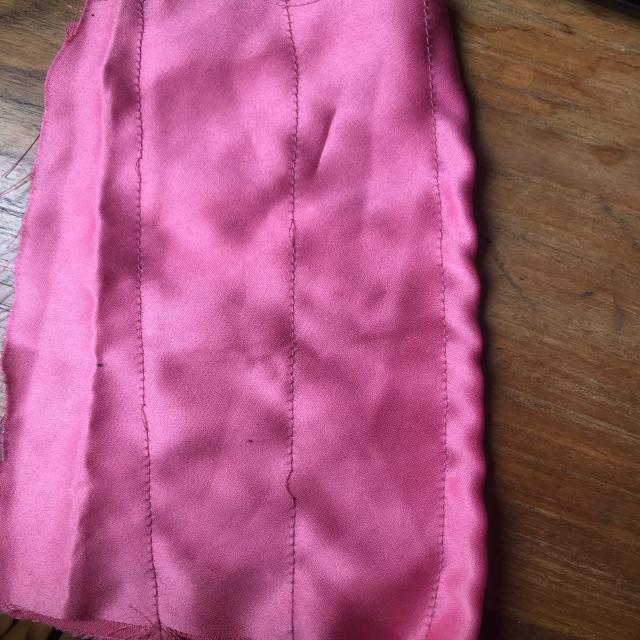good: (121, 246, 155, 340)
skip: (262, 456, 318, 508), (124, 392, 167, 450), (273, 212, 321, 258), (128, 150, 152, 189)
